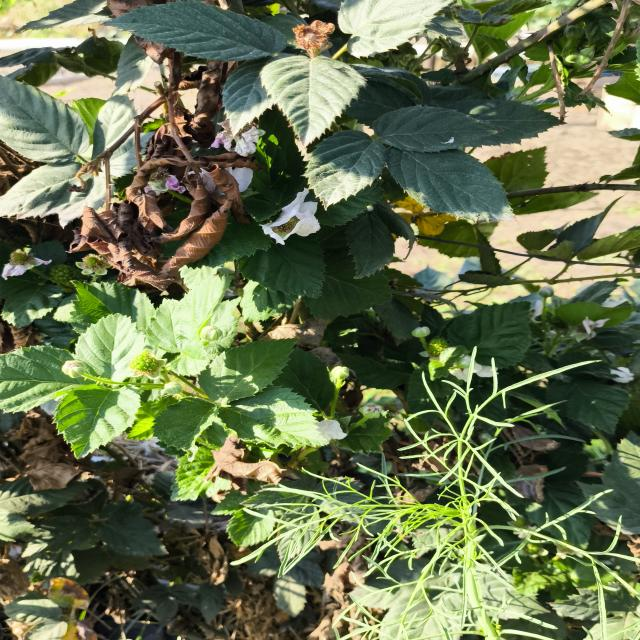boton: (199, 325, 221, 346), (62, 360, 86, 378), (330, 366, 350, 383), (361, 404, 382, 419), (162, 381, 182, 395), (412, 327, 431, 337)
verde: (129, 350, 167, 379), (427, 338, 448, 357)
